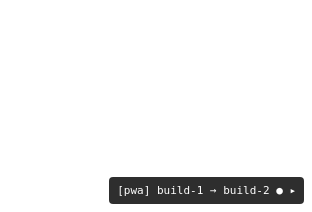
PwaUpdateDebugPanel › readiness gate › renders 'available' transition when state is valid
Click the button at (207, 190), box [117,183,296,198]
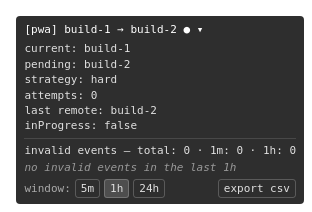
Expected: the text "pending: build-2" is shown, [24,58,130,71]
Expected: the text "strategy: hard" is shown, [24,73,117,86]
Expected: the text "inProgress: false" is shown, [24,119,137,132]
